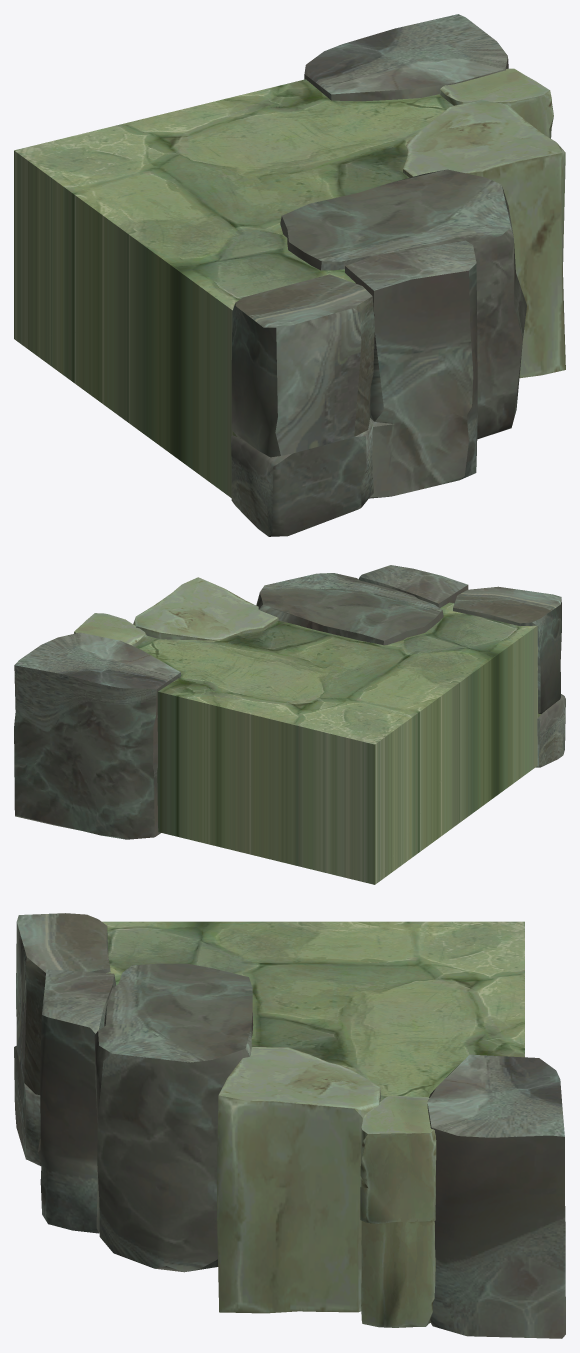
Rendered from Ruins_Wall_DMG_Center_TopRight_A.fbx.
3 renders of one model, top to bottom at view 1: azimuth 30°, elevation 25°; view 2: azimuth 150°, elevation 25°; view 3: azimuth 270°, elevation 25°, orthographic. The views are drawn at different scales.
Visible parts, largest first — view 1: Ruins_Wall_DMG_Center_TopRight_A; view 2: Ruins_Wall_DMG_Center_TopRight_A; view 3: Ruins_Wall_DMG_Center_TopRight_A.
Part boxes in pixels (box(x1,y1,x2,y2)): Ruins_Wall_DMG_Center_TopRight_A: box(14, 14, 565, 536); Ruins_Wall_DMG_Center_TopRight_A: box(14, 565, 565, 884); Ruins_Wall_DMG_Center_TopRight_A: box(14, 913, 565, 1338).
Size of the model in its own units: 651 by 290 by 672.
